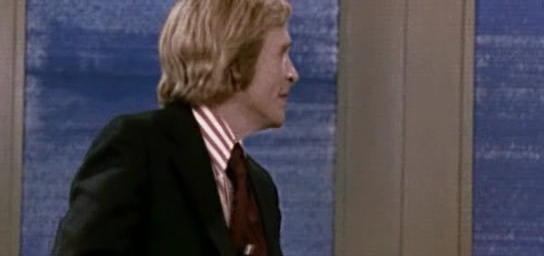face: (246, 28, 299, 129)
mcu: (1, 1, 544, 256)
person: (53, 1, 299, 256)
